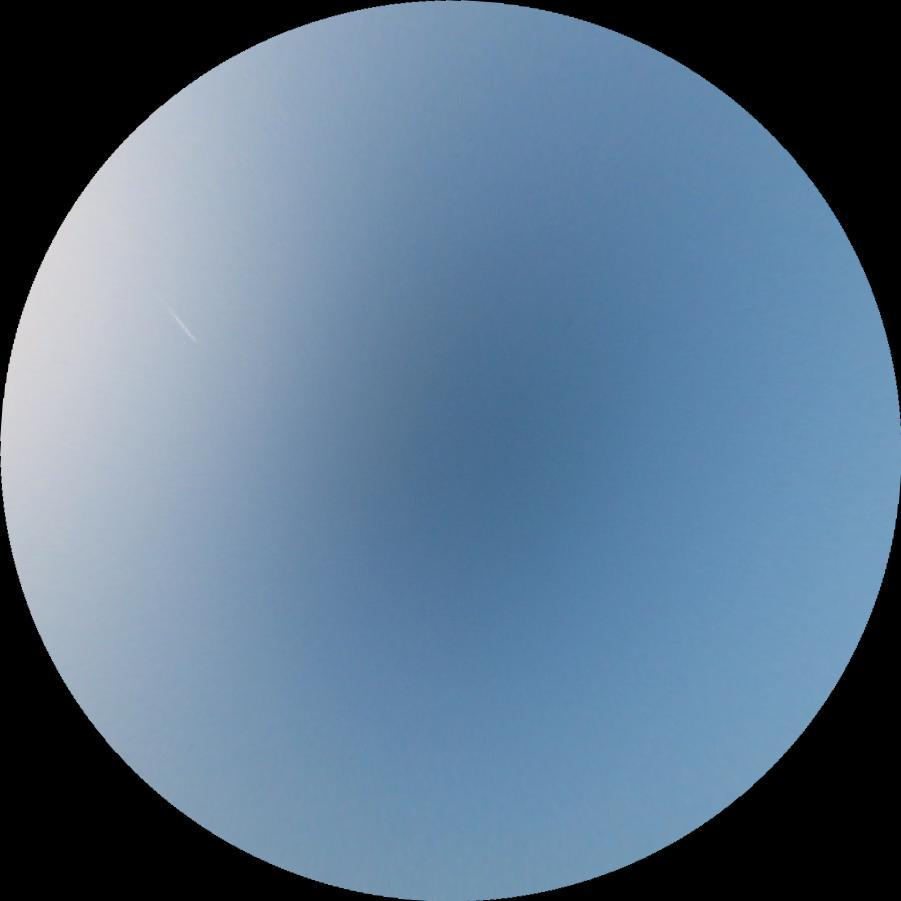contrail young: (155, 294, 199, 344)
